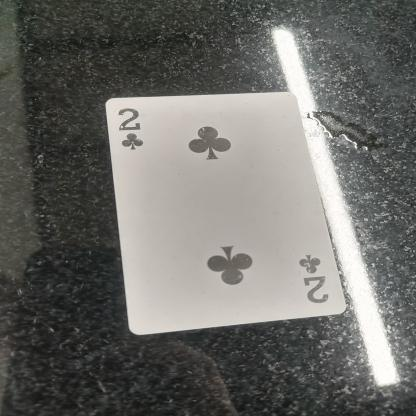2C: (289, 246, 339, 310), (112, 104, 156, 160)
